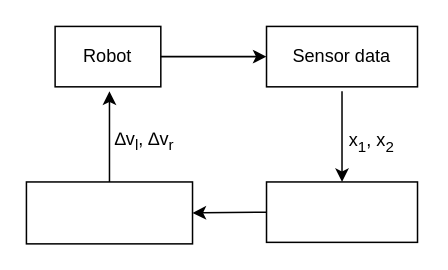
The diagram is 448 pixels wide and 270 high, and some of its shapes have lost their labels. Each missing label, with the centre of its shape:
"Calculation of ∆x, ∆d" goes at (341,211).
"Fuzzy logic controller" goes at (109,212).
